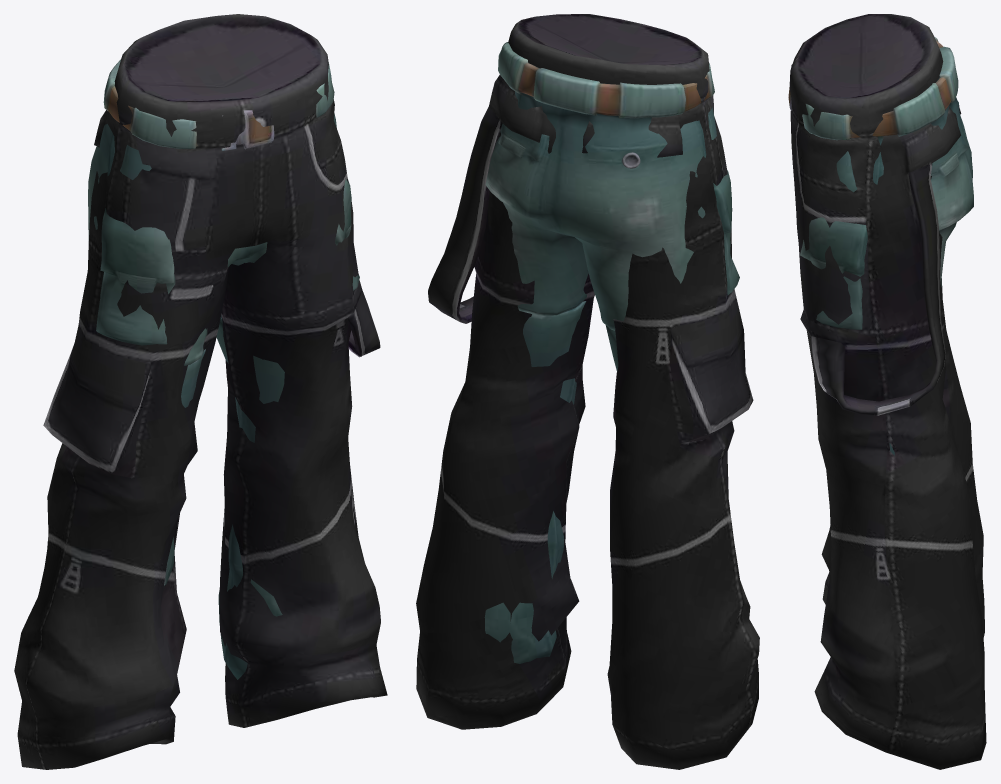
3 views of the same model, side by side, from view 1: azimuth 30°, elevation 25°; view 2: azimuth 150°, elevation 25°; view 3: azimuth 270°, elevation 25° (orthographic). The views are drawn at different scales.
Parts seen in each view (by area): view 1: Wolf3D_Outfit_Bottom, Wolf3D_Outfit_Bottom.001; view 2: Wolf3D_Outfit_Bottom, Wolf3D_Outfit_Bottom.001; view 3: Wolf3D_Outfit_Bottom, Wolf3D_Outfit_Bottom.001.
Boxes of the visible parts, left/top/right/bottom form: Wolf3D_Outfit_Bottom: left=14, top=14, right=387, bottom=769; Wolf3D_Outfit_Bottom.001: left=88, top=59, right=359, bottom=679; Wolf3D_Outfit_Bottom: left=416, top=14, right=759, bottom=769; Wolf3D_Outfit_Bottom.001: left=484, top=42, right=739, bottom=663; Wolf3D_Outfit_Bottom: left=789, top=14, right=986, bottom=769; Wolf3D_Outfit_Bottom.001: left=788, top=37, right=973, bottom=455.
Bounding box in the file's own units: 0.5563 × 1.09 × 0.2966.
Materials: 2 (2 with a texture image).
